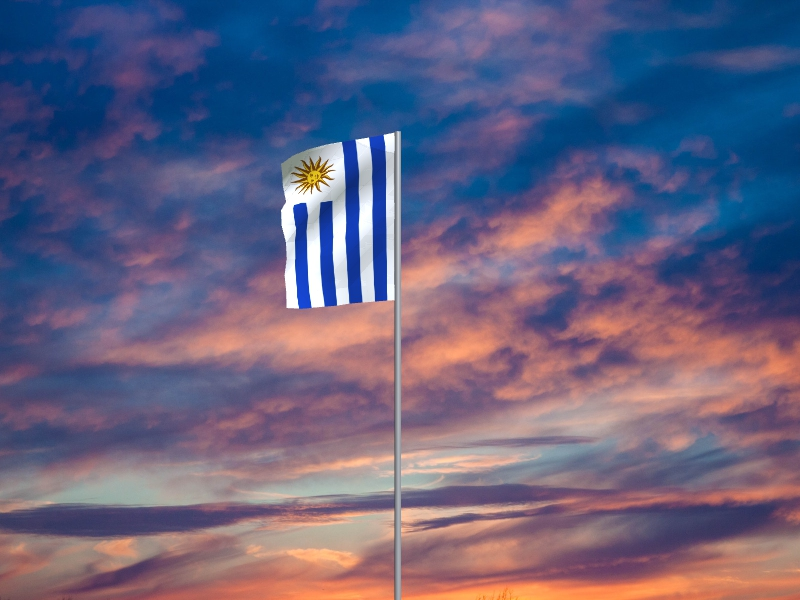uy: (281, 132, 395, 310)
